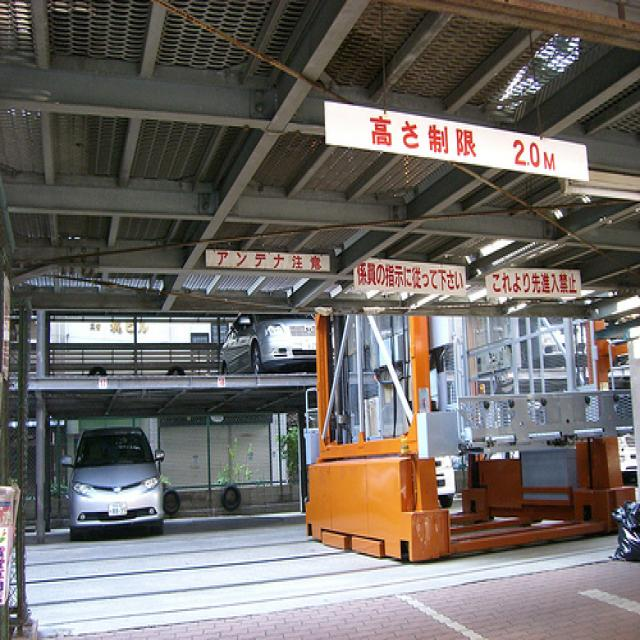Car: (65, 422, 170, 539), (221, 312, 320, 371)
